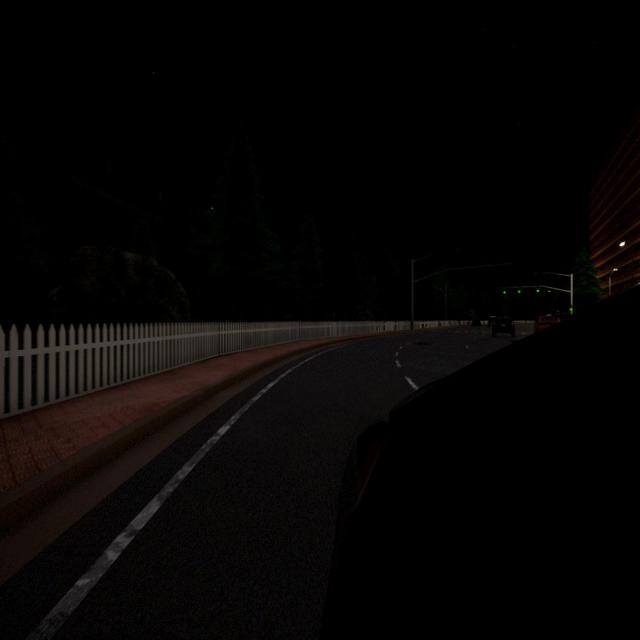Vehicle: (322, 290, 640, 640), (491, 312, 515, 338), (533, 315, 561, 335)
traffic_light: (536, 285, 540, 293), (569, 304, 572, 311), (503, 287, 506, 294), (518, 287, 520, 294)
